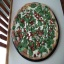pizza: (10, 1, 59, 59)
